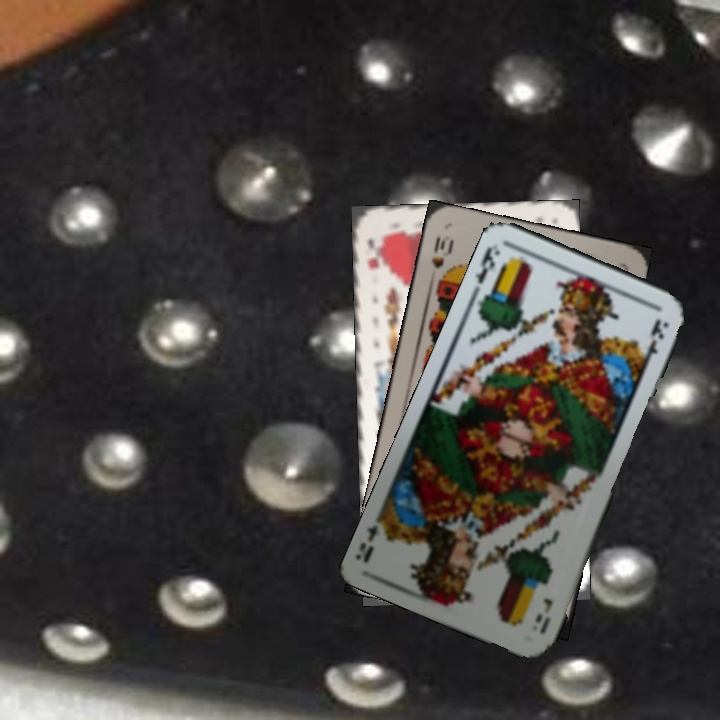EK: (472, 240, 503, 287), (531, 593, 555, 637)
HK: (362, 231, 386, 271)
S10: (427, 231, 455, 271)
